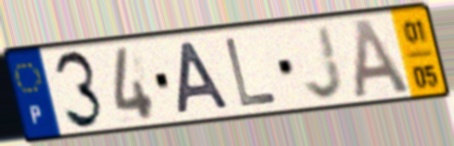3: (49, 48, 105, 131)
4: (111, 44, 157, 124)
A: (352, 15, 415, 102), (175, 39, 234, 117)
J: (301, 22, 348, 103)
L: (221, 36, 281, 110)
